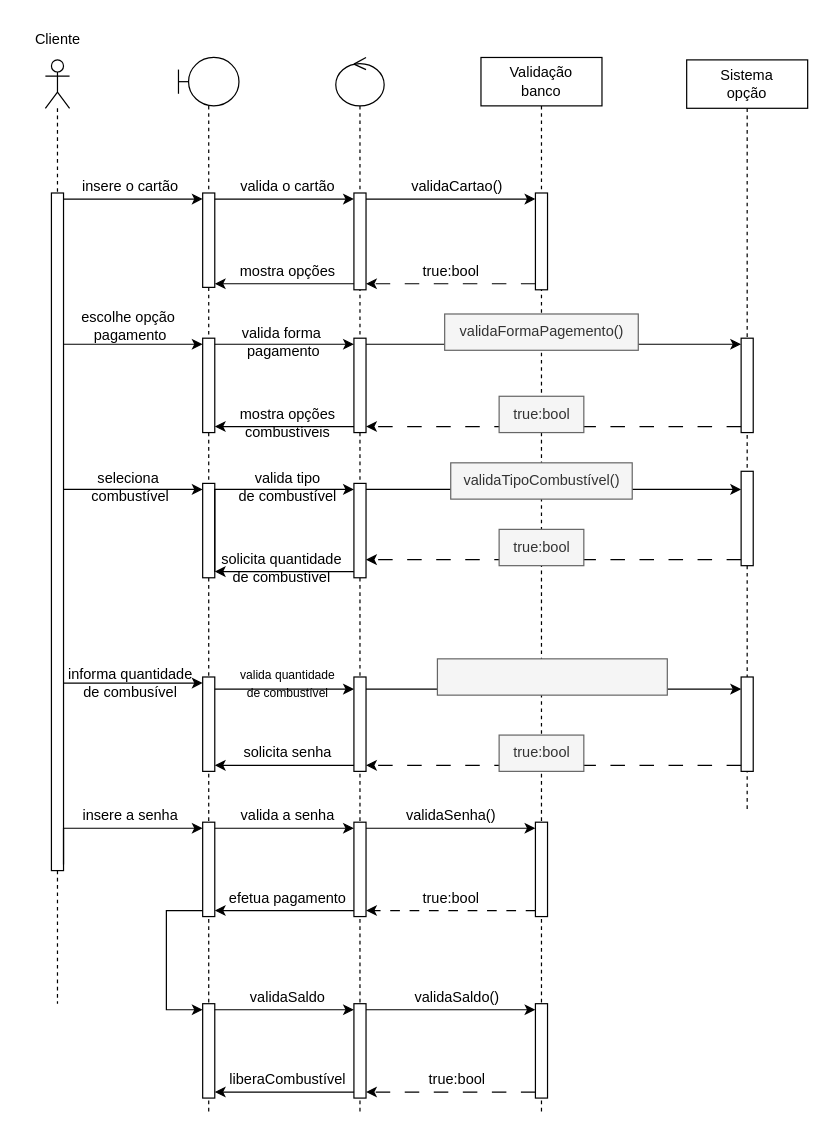
The diagram is 829 pixels wide and 1134 high, and some of its shapes have lost their labels. Each missing label, with the centre of its shape:
"control" belongs at point (359, 584).
"front" belongs at point (208, 584).
"validaQuantidadeCombustivel()" belongs at point (551, 676).
